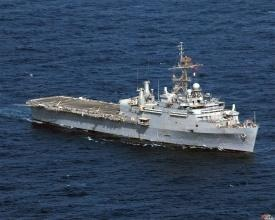warship: (30, 38, 264, 153)
